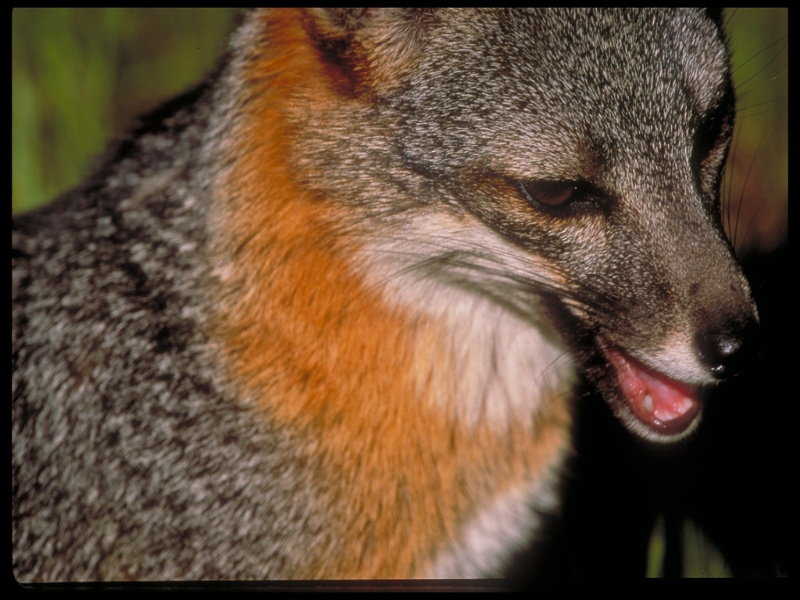fox: (1, 5, 765, 581)
